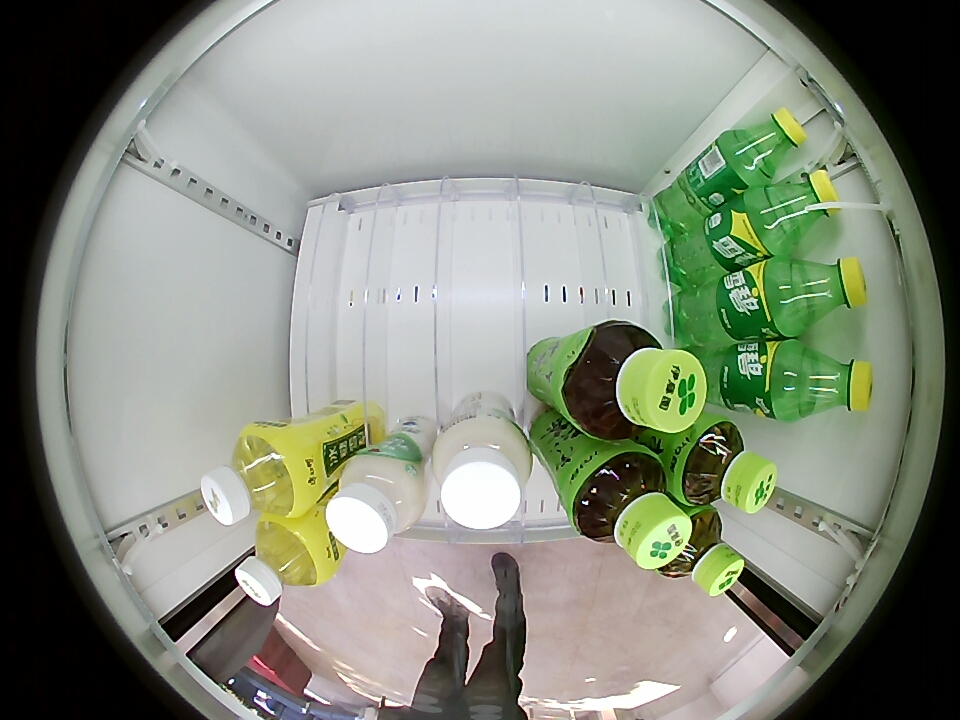bingtangxueli: (200, 425, 310, 526), (235, 517, 333, 607)
xuebi-b: (761, 170, 840, 247), (791, 345, 873, 419), (787, 256, 867, 328), (730, 107, 806, 179)
yitengyuan: (562, 320, 707, 441), (569, 447, 691, 569), (673, 417, 777, 514), (654, 507, 744, 597)
yousuanru: (432, 415, 535, 530), (327, 452, 427, 554)
